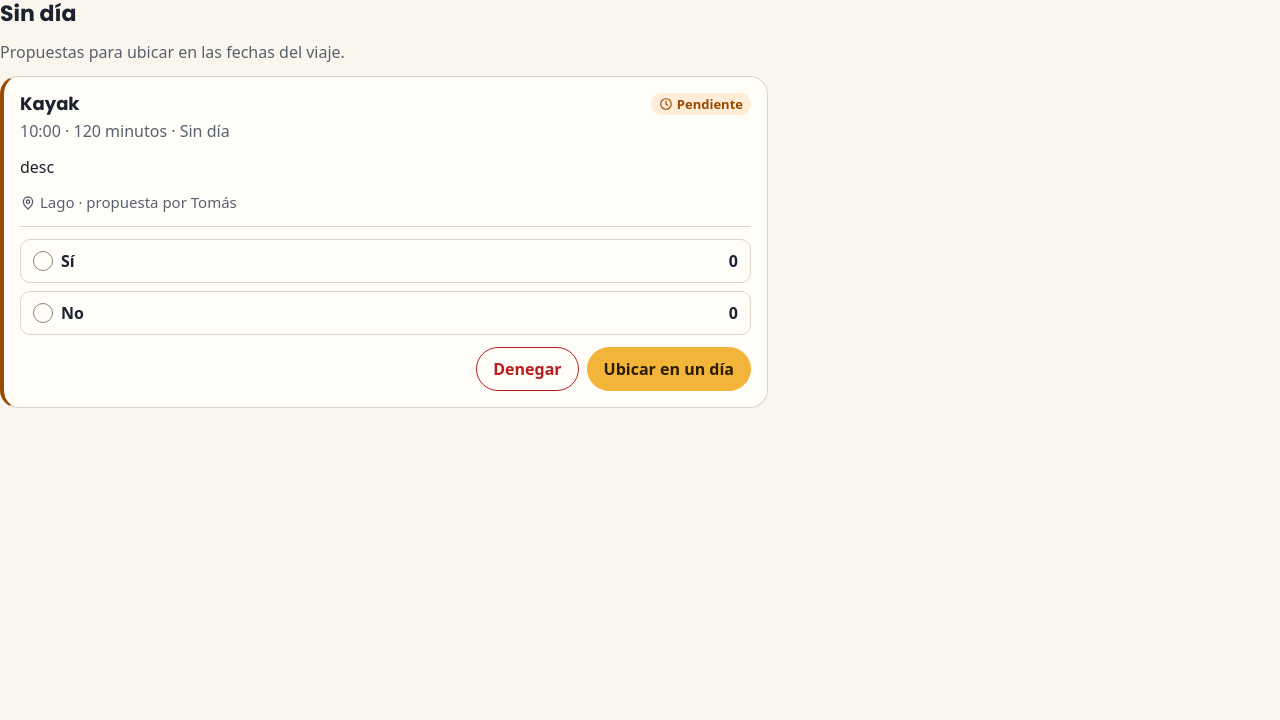
Test: CU28: bandeja Sin día › CU28 y RN-V7: el Admin elige la fecha y la propuesta sale de la bandeja
Click the button "Ubicar en un día" at (669, 368), box [587,346,751,390]
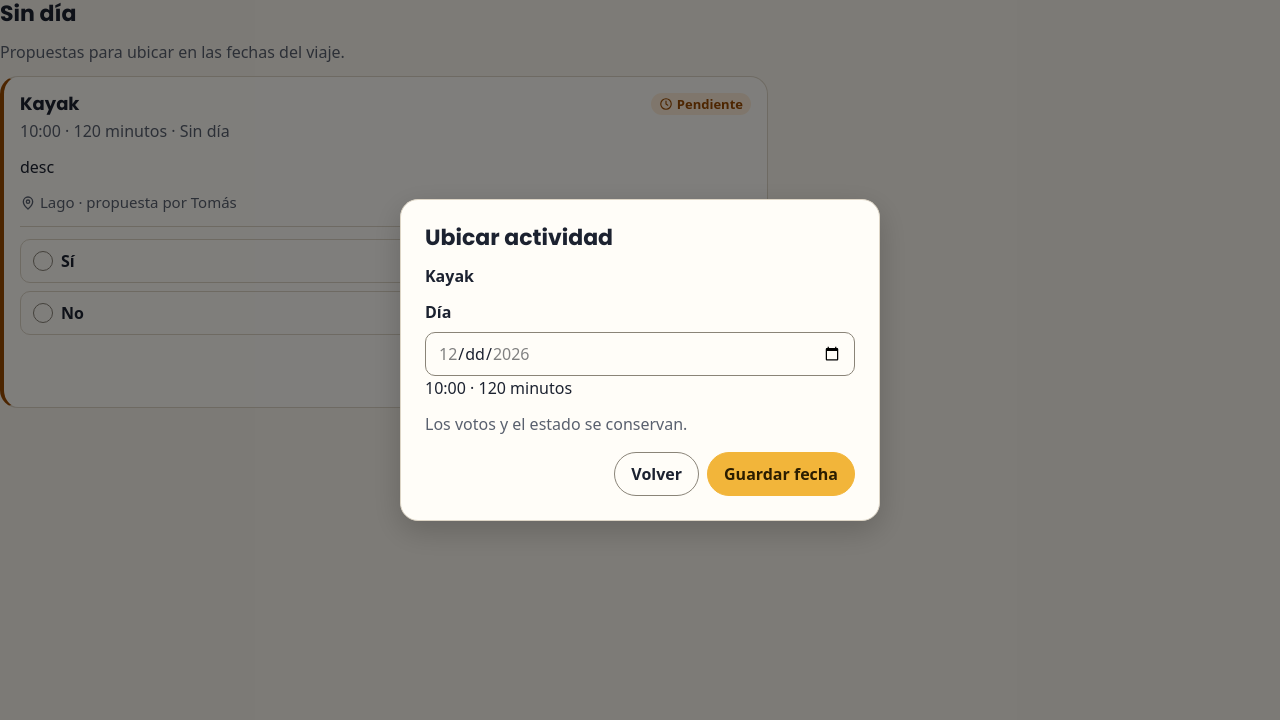
Type "2026-12-12" into the date field with id "ubicar-fecha" at (640, 354), box [425,332,855,376]
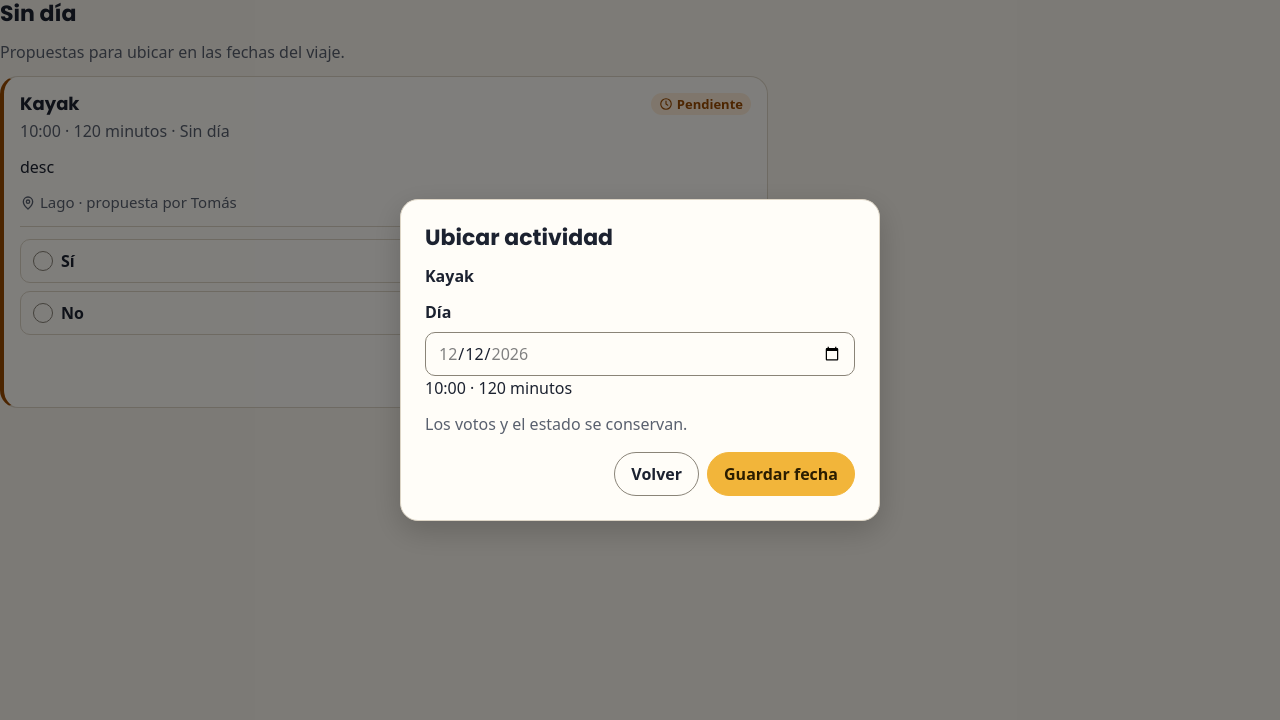
Submit the form, box [425,300,855,496]
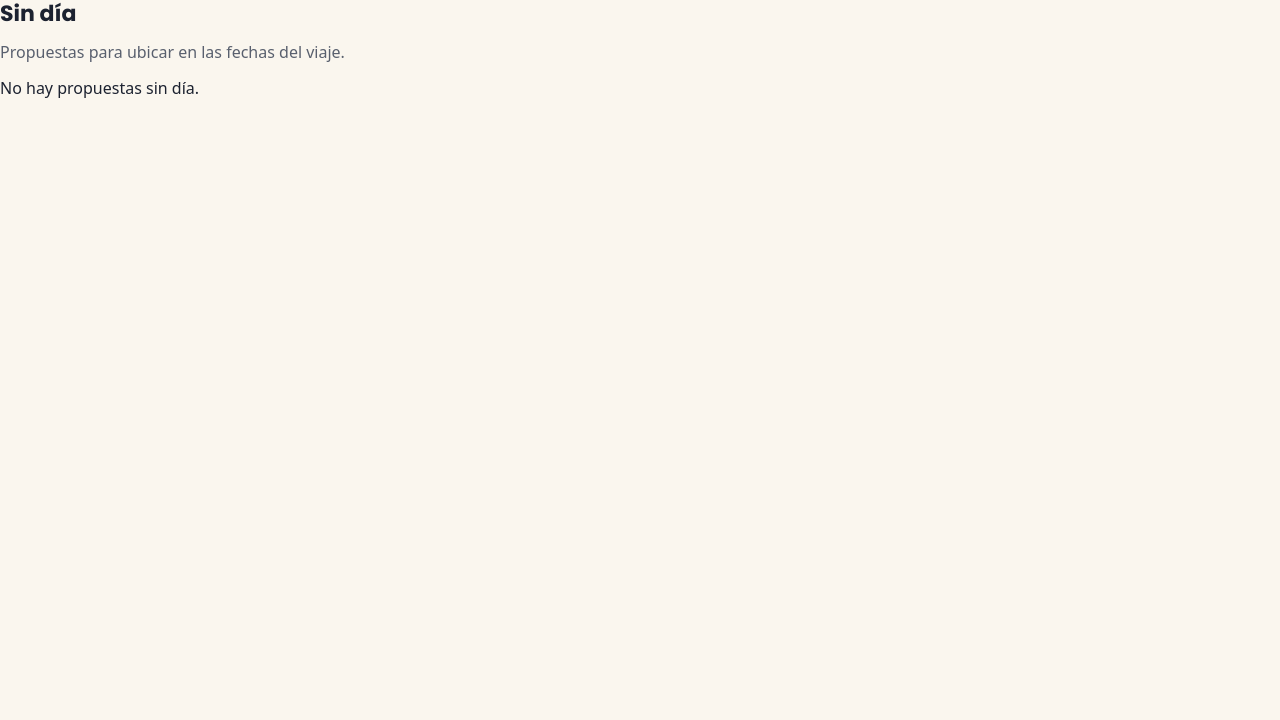
Now the text "No hay propuestas sin día." is shown, box [0,76,199,98]
